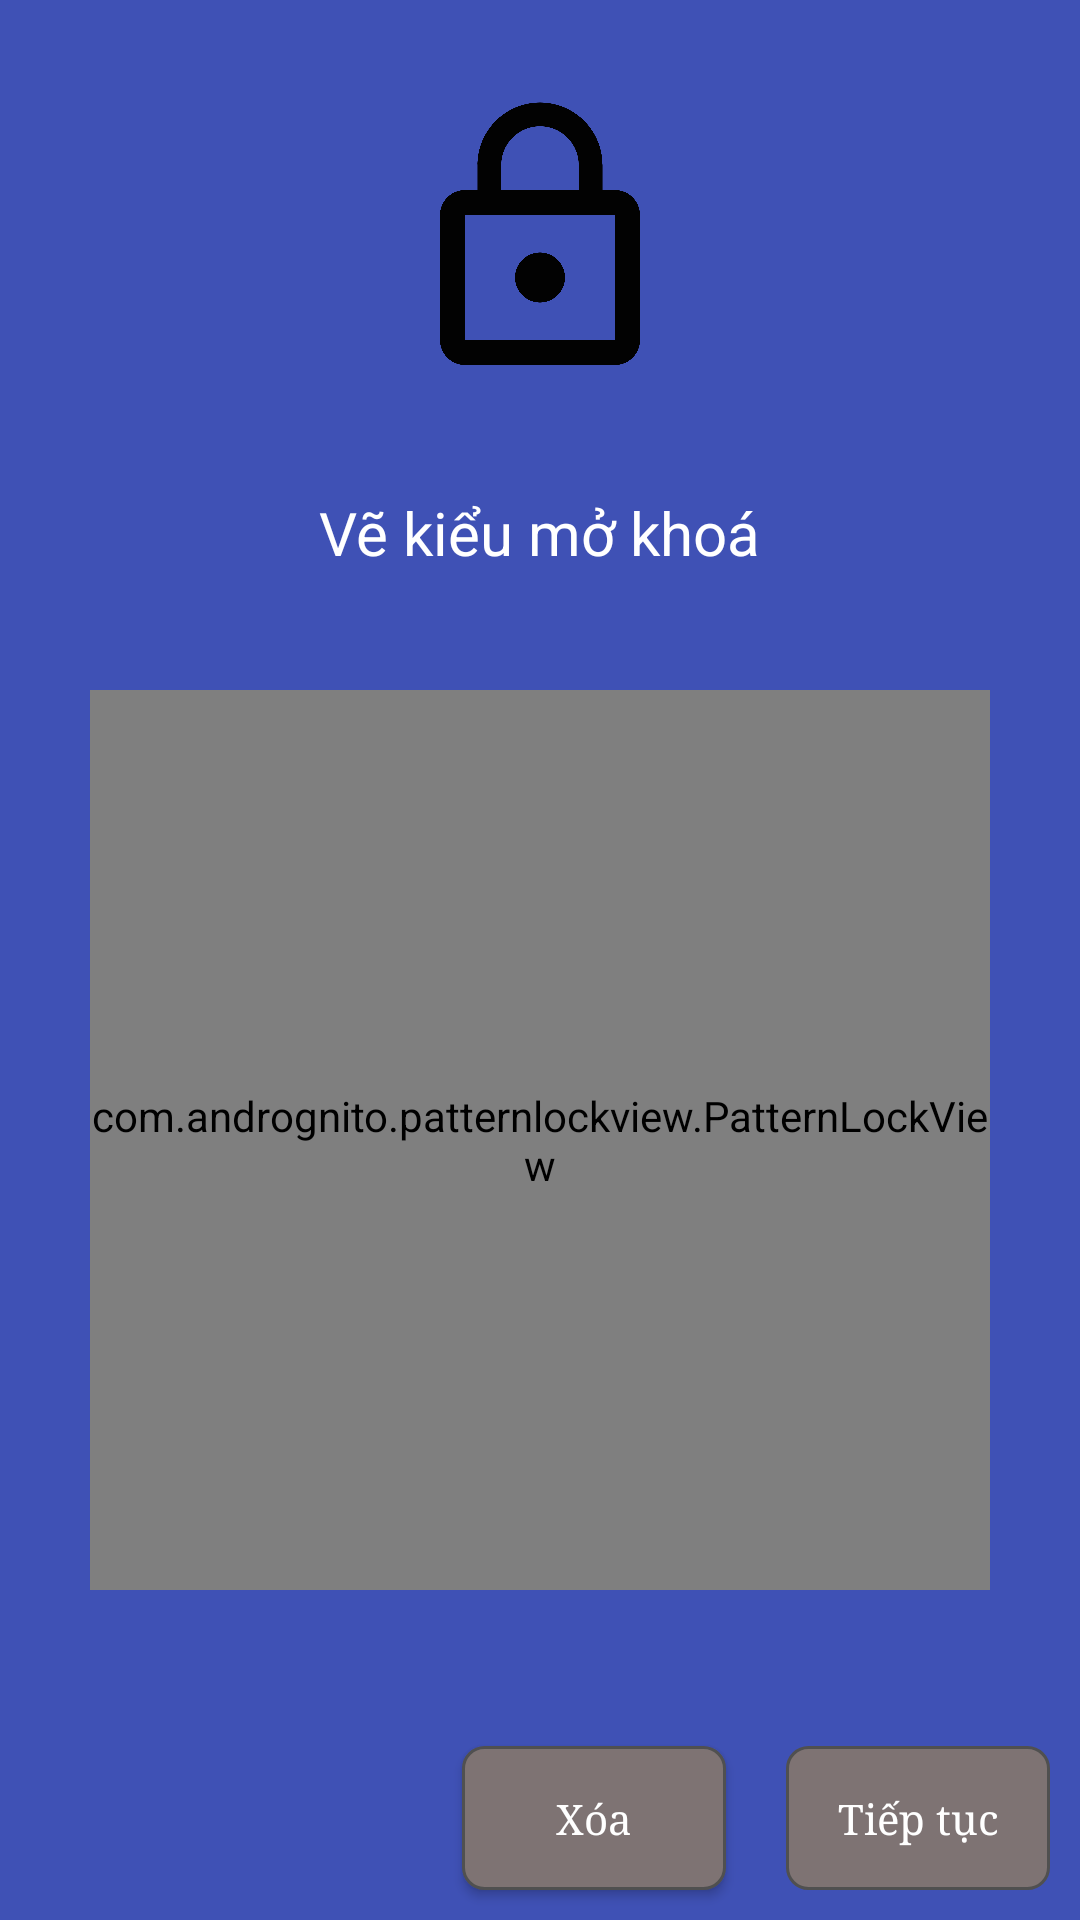

Icons on this 1080 x 1920 Android screen, each with its box as Rect(x1, y1, x2, y2):
lock: Rect(440, 102, 640, 365)
